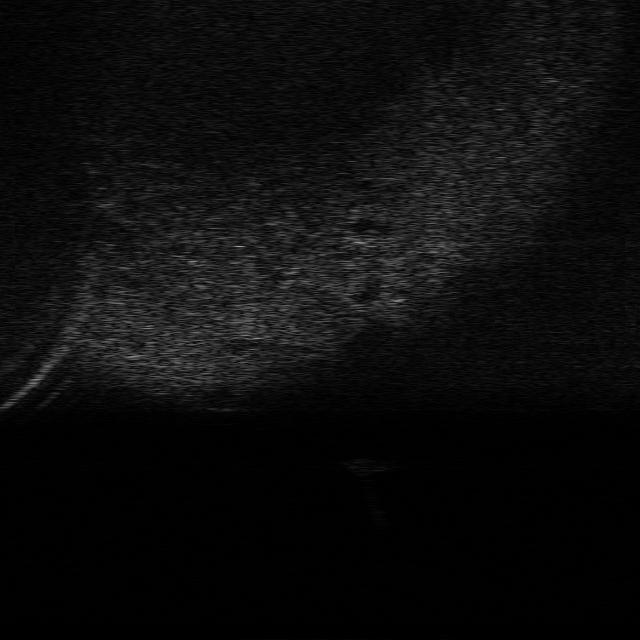cube: (341, 458, 389, 478)
